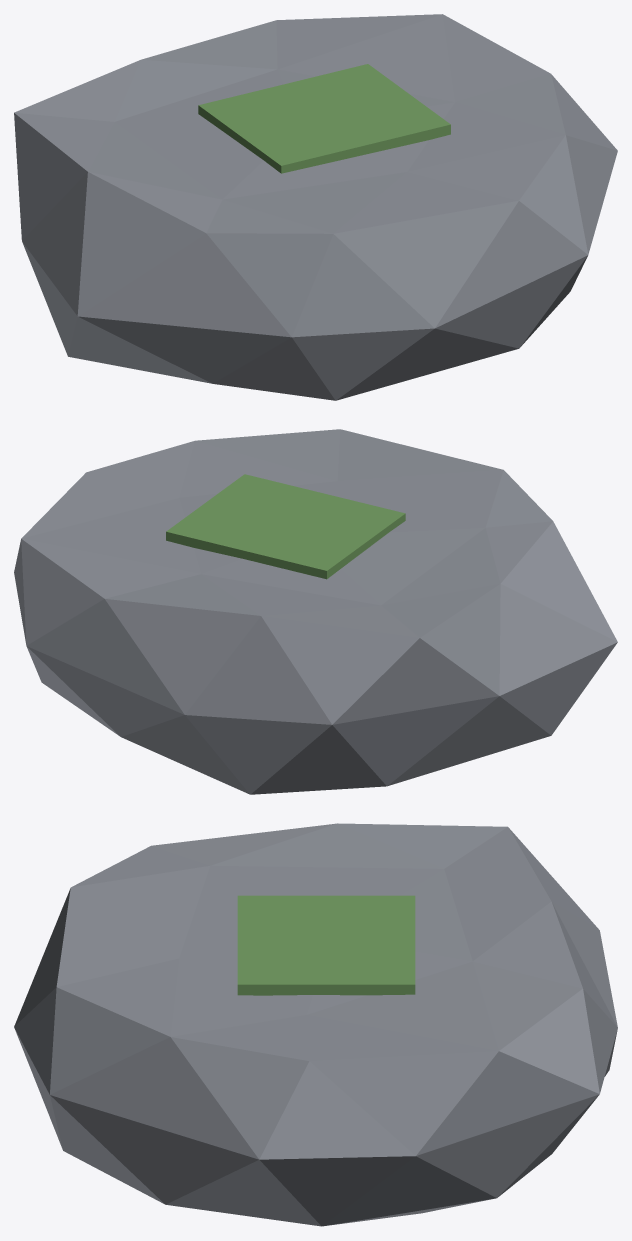
File: xy_landmark_whalerock.glb
3 views of the same model, one above another, from view 1: azimuth 30°, elevation 25°; view 2: azimuth 150°, elevation 25°; view 3: azimuth 270°, elevation 25° (orthographic). The views are drawn at different scales.
Parts seen in each view (by area): view 1: xy_landmark_whalerock; view 2: xy_landmark_whalerock; view 3: xy_landmark_whalerock.
Boxes of the visible parts, x1,y1,x2,y2 form: xy_landmark_whalerock: [14, 14, 617, 400]; xy_landmark_whalerock: [14, 429, 617, 794]; xy_landmark_whalerock: [14, 823, 617, 1226].
Size of the model in its own units: 4.29 by 1.58 by 3.74.
